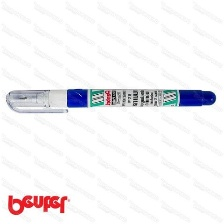correction_fluid: (2, 83, 218, 118)
